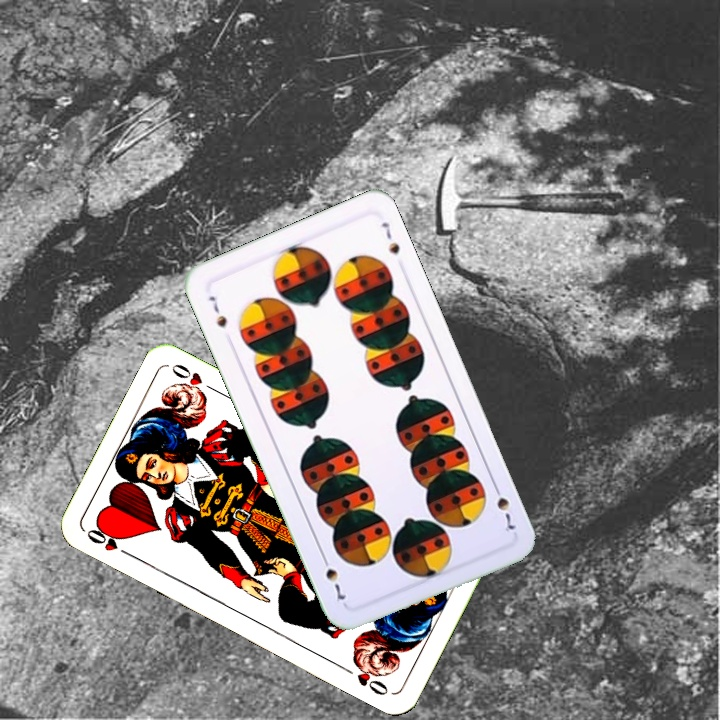HO: (82, 523, 137, 560)
S7: (489, 479, 517, 535), (204, 291, 230, 331)
